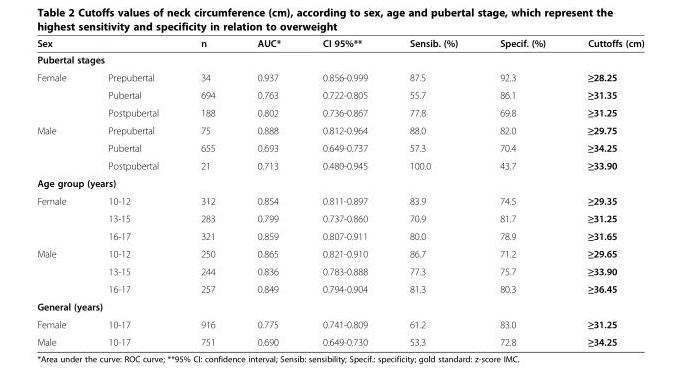table: (36, 37, 643, 347)
table column: (86, 37, 179, 347), (387, 37, 478, 347), (478, 37, 566, 347), (301, 37, 387, 347), (566, 37, 643, 347), (235, 37, 301, 347), (179, 37, 235, 347), (36, 37, 86, 347)
table column header: (36, 37, 643, 51)
table projected row header: (36, 297, 643, 315), (36, 51, 643, 68), (36, 174, 643, 191)
table row: (36, 85, 643, 103), (36, 103, 643, 121), (36, 138, 643, 156), (36, 156, 643, 174), (36, 191, 643, 209), (36, 226, 643, 244), (36, 244, 643, 262), (36, 279, 643, 297), (36, 297, 643, 315), (36, 51, 643, 68), (36, 68, 643, 85), (36, 121, 643, 138), (36, 174, 643, 191), (36, 209, 643, 226), (36, 262, 643, 279), (36, 315, 643, 332), (36, 332, 643, 347), (36, 37, 643, 51)
table spanning cell: (36, 68, 86, 121), (36, 121, 86, 174), (36, 191, 86, 244), (36, 244, 86, 297)
